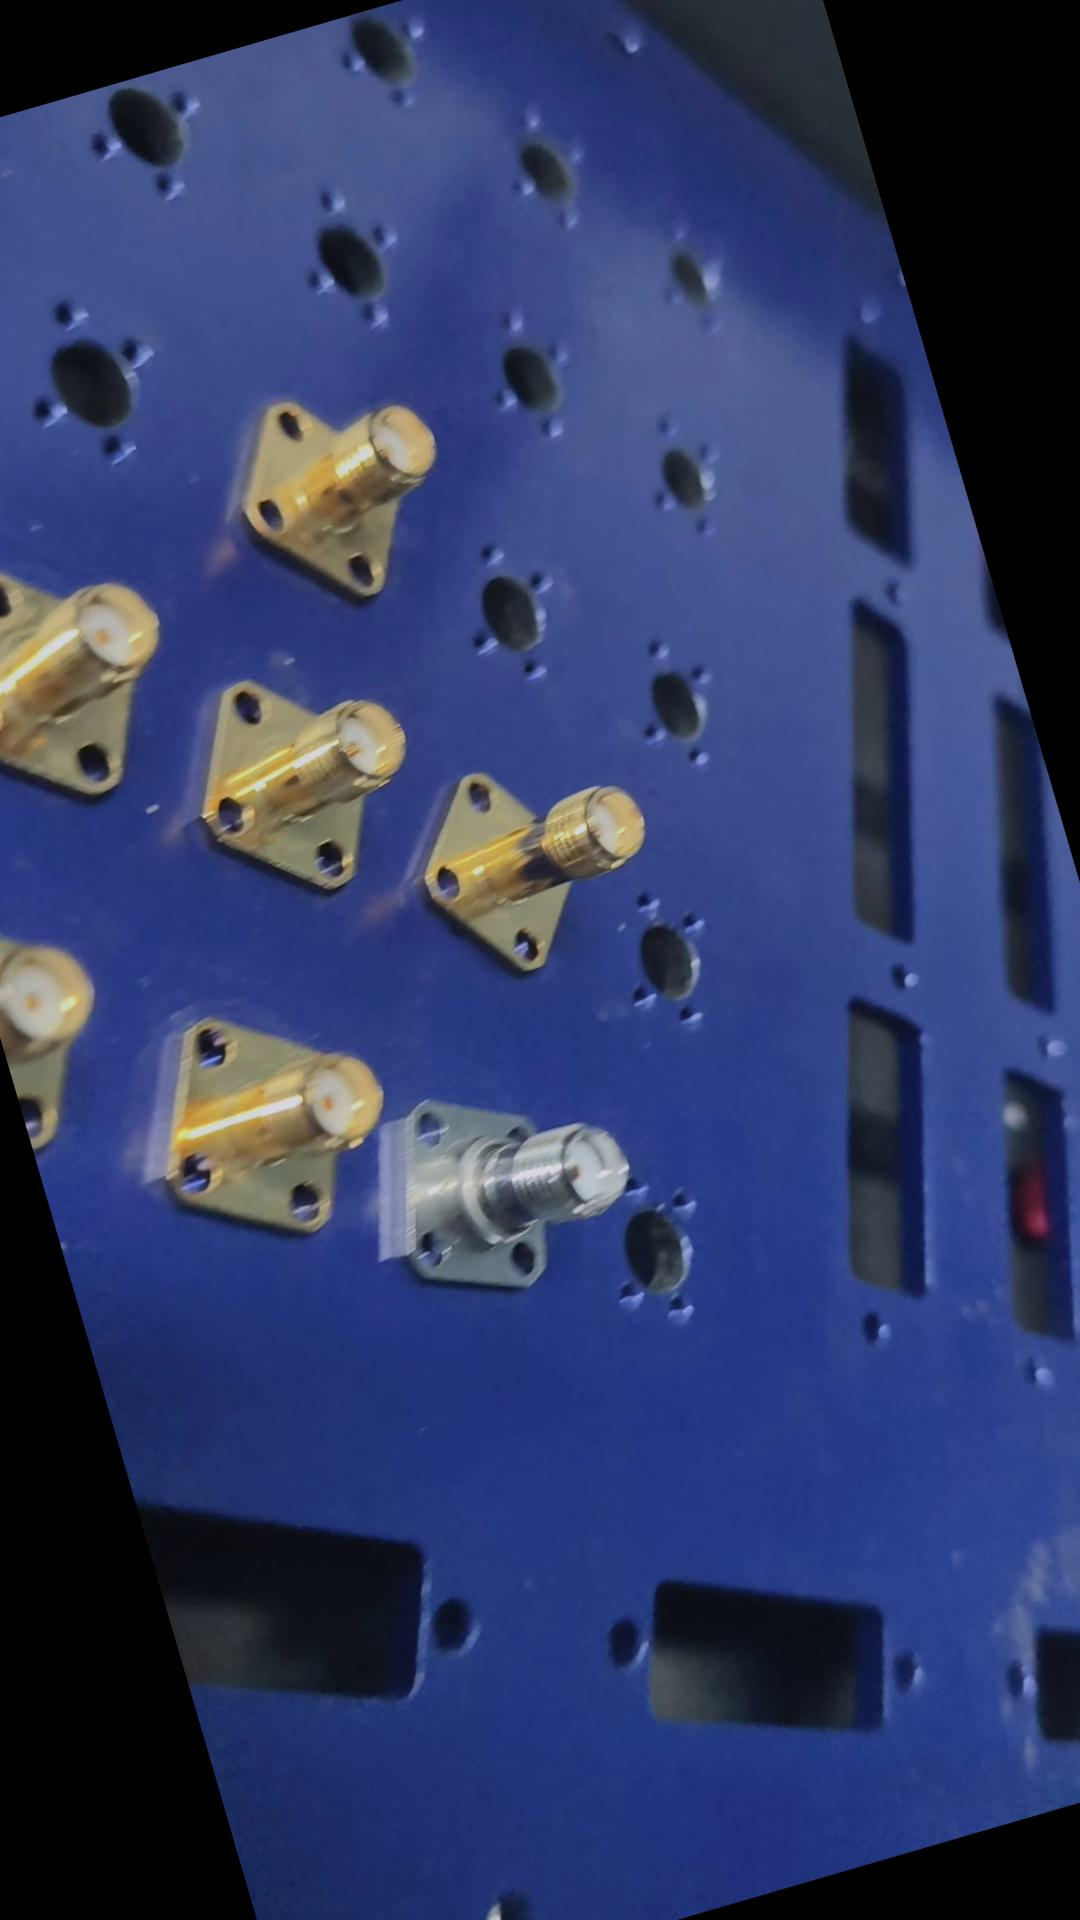SMA: (345, 1025, 655, 1323), (133, 969, 429, 1282), (392, 698, 675, 997), (208, 339, 477, 628), (173, 638, 443, 920), (0, 521, 214, 833)
